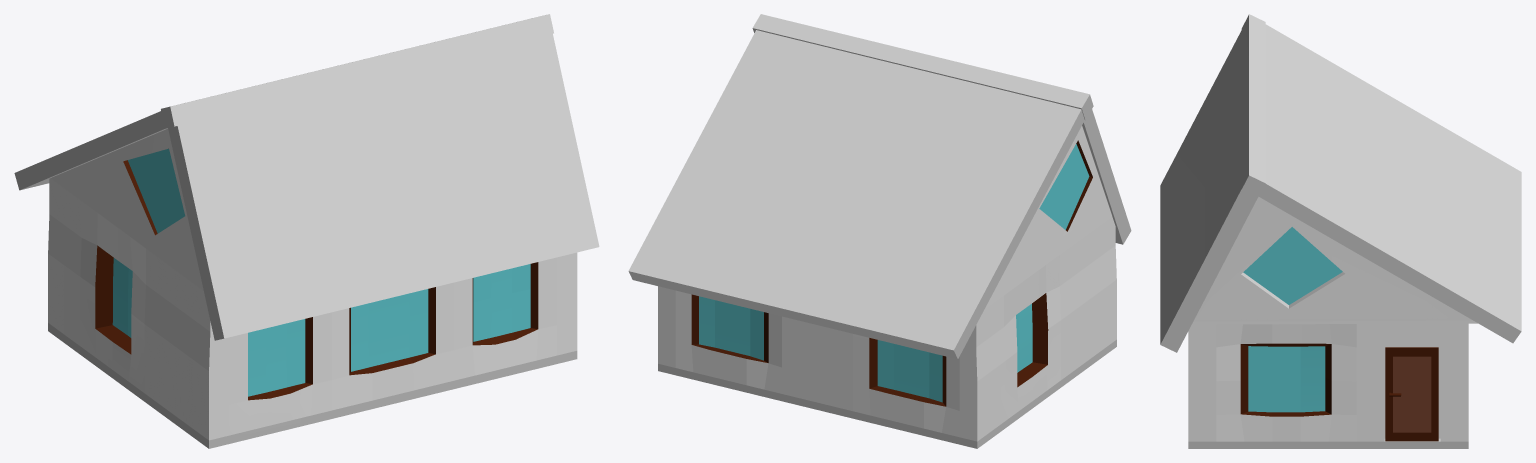
The model's file is House2.fbx.
3 renders of one model, left to right at view 1: azimuth 30°, elevation 25°; view 2: azimuth 150°, elevation 25°; view 3: azimuth 270°, elevation 25°, orthographic. The views are drawn at different scales.
Visible parts, largest first — view 1: Cube.001; view 2: Cube.001; view 3: Cube.001.
Boxes of the visible parts, x1,y1,x2,y2 form: Cube.001: (14, 14, 599, 448); Cube.001: (628, 14, 1131, 448); Cube.001: (1160, 14, 1521, 448).
Size of the model in its own units: 472 by 377 by 446.
